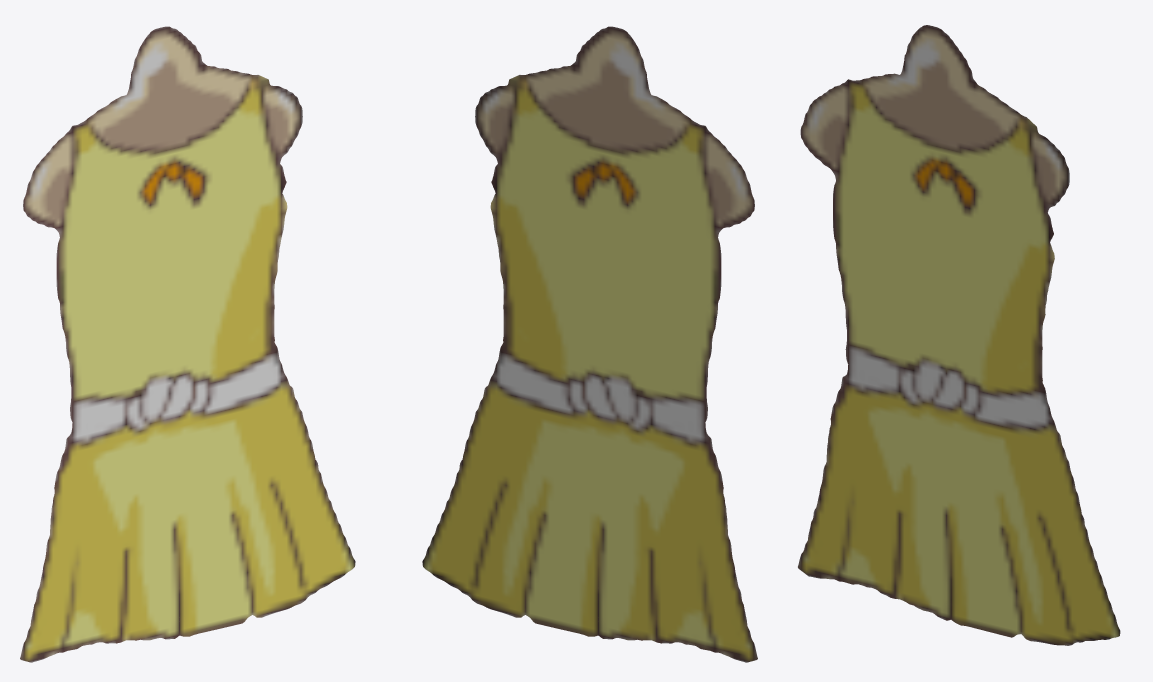
File: giftgoods019.fbx
3 views of the same model, side by side, from view 1: azimuth 30°, elevation 25°; view 2: azimuth 150°, elevation 25°; view 3: azimuth 330°, elevation 25° (orthographic). The views are drawn at different scales.
Parts seen in each view (by area): view 1: giftgoods019; view 2: giftgoods019; view 3: giftgoods019.
Boxes of the visible parts, x1,y1,x2,y2 form: giftgoods019: (20,26,355,662); giftgoods019: (422,26,757,662); giftgoods019: (798,25,1120,645).
Size of the model in its own units: 0.5579 by 0.9487 by 0.
